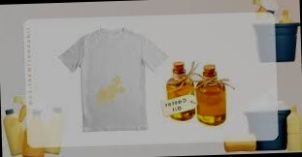oil: (96, 77, 127, 106)
